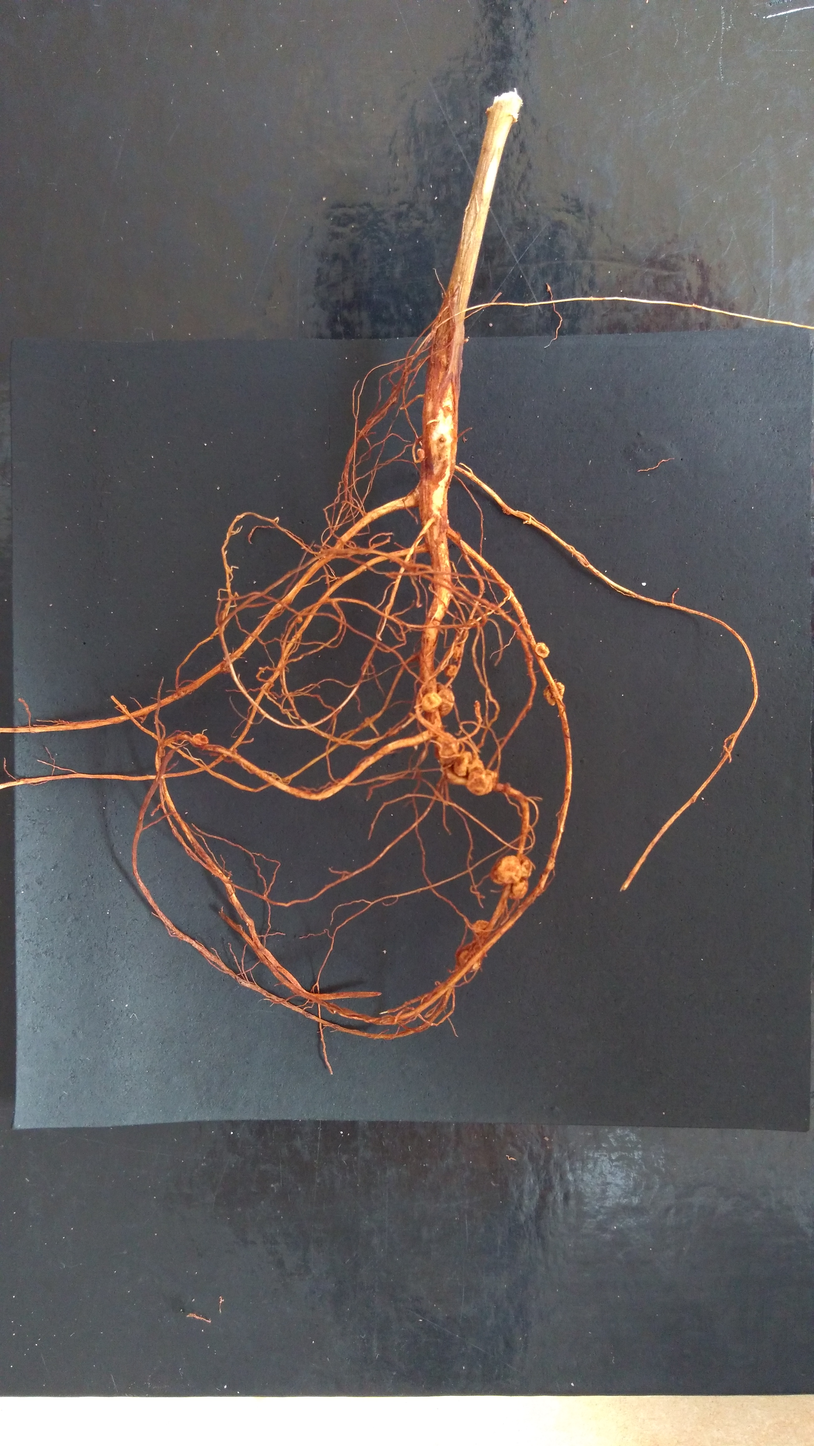nodule: (488, 852, 523, 885), (431, 731, 460, 767), (463, 767, 496, 797), (456, 945, 482, 974), (542, 679, 566, 708), (451, 749, 473, 779), (436, 686, 456, 718), (507, 876, 530, 902), (420, 691, 443, 716), (517, 853, 536, 879), (533, 641, 551, 659), (470, 918, 491, 932), (191, 732, 210, 746), (444, 662, 459, 676), (452, 645, 463, 660)
